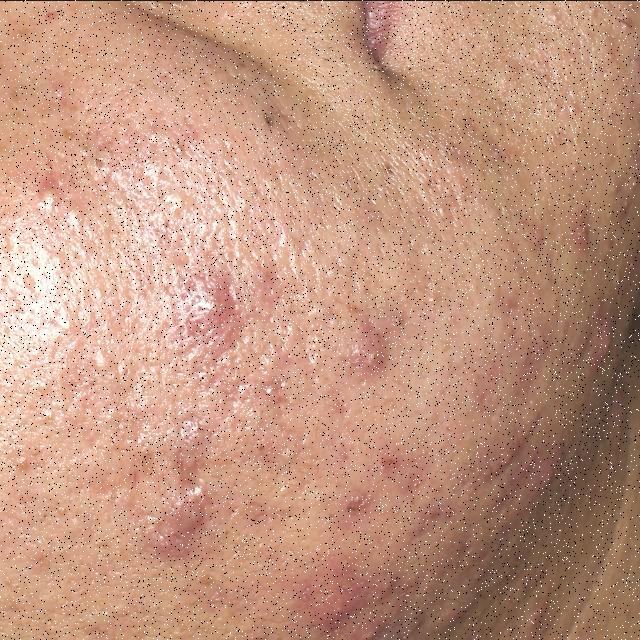nodules: (481, 401, 575, 528), (162, 258, 256, 368), (296, 556, 416, 640), (336, 285, 408, 396), (151, 468, 221, 564), (566, 310, 626, 380), (566, 194, 604, 266)
